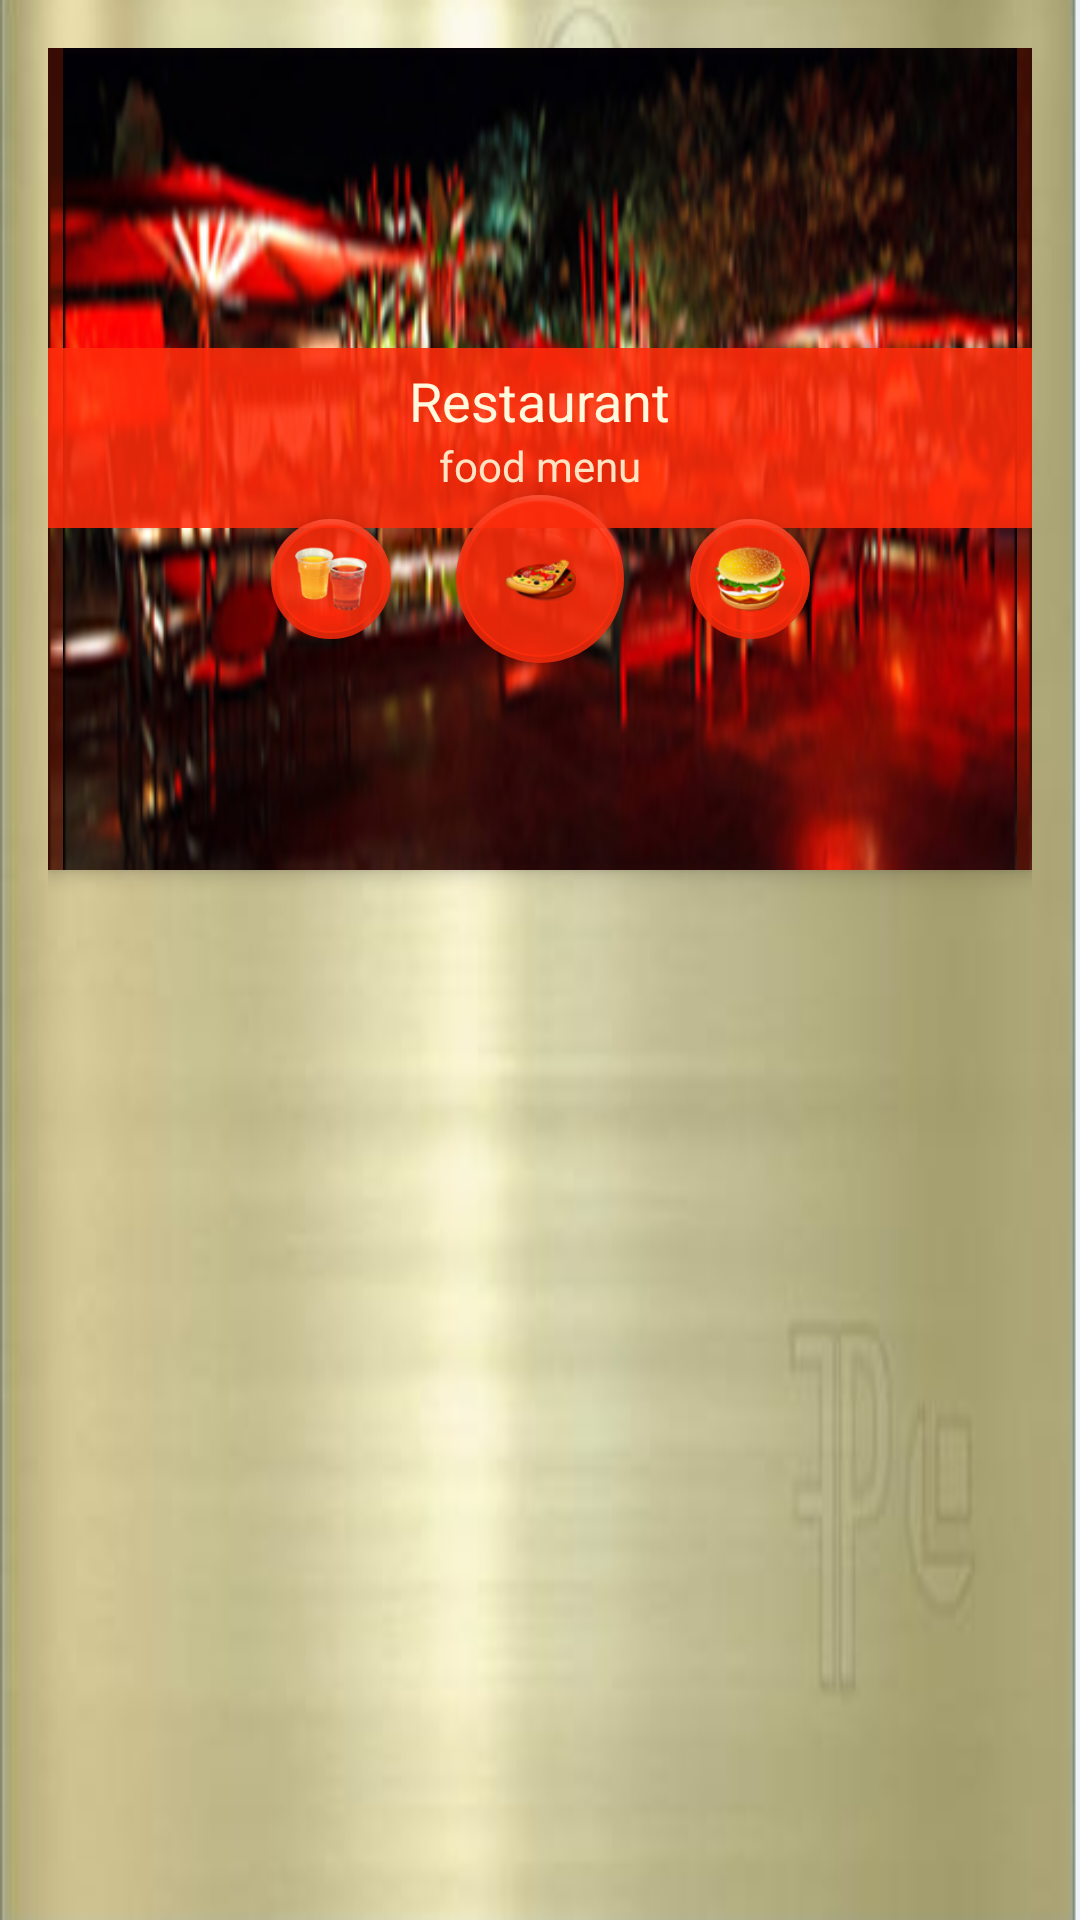

Where to tap for icons on this 1080*1920 app screen, as (x,y):
burger: (750,579)
colddrnk: (331,579)
piza: (540,579)
